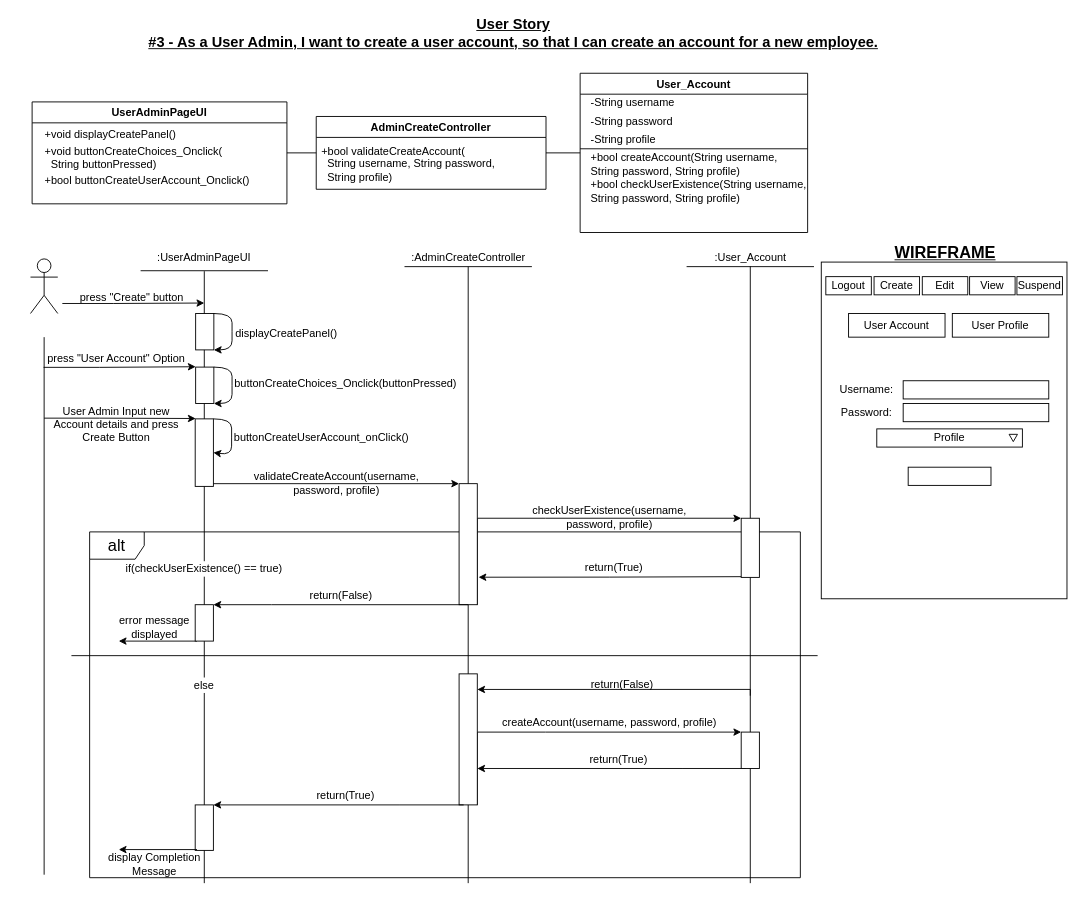
This 1083x900 diagram has some shape labels left out. Each missing label, with the centre of its shape:
Create Account: (949,475)
User Admin: (44,285)
